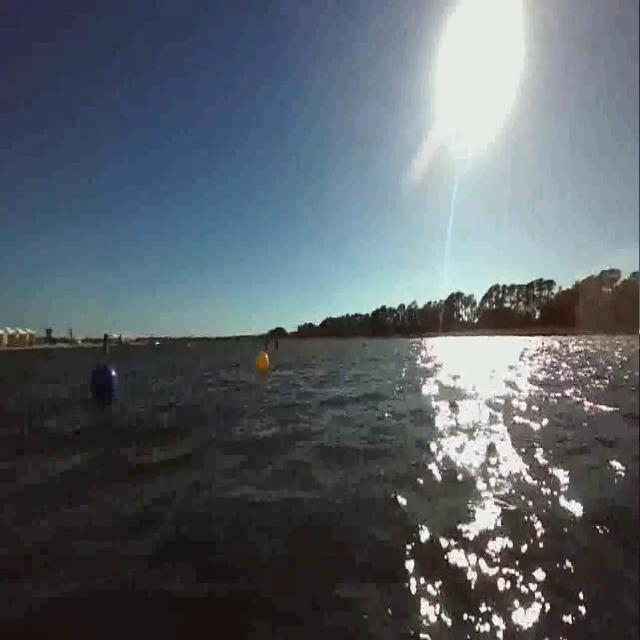blue-buoy: (92, 364, 118, 406)
yellow-buoy: (256, 350, 270, 371)
